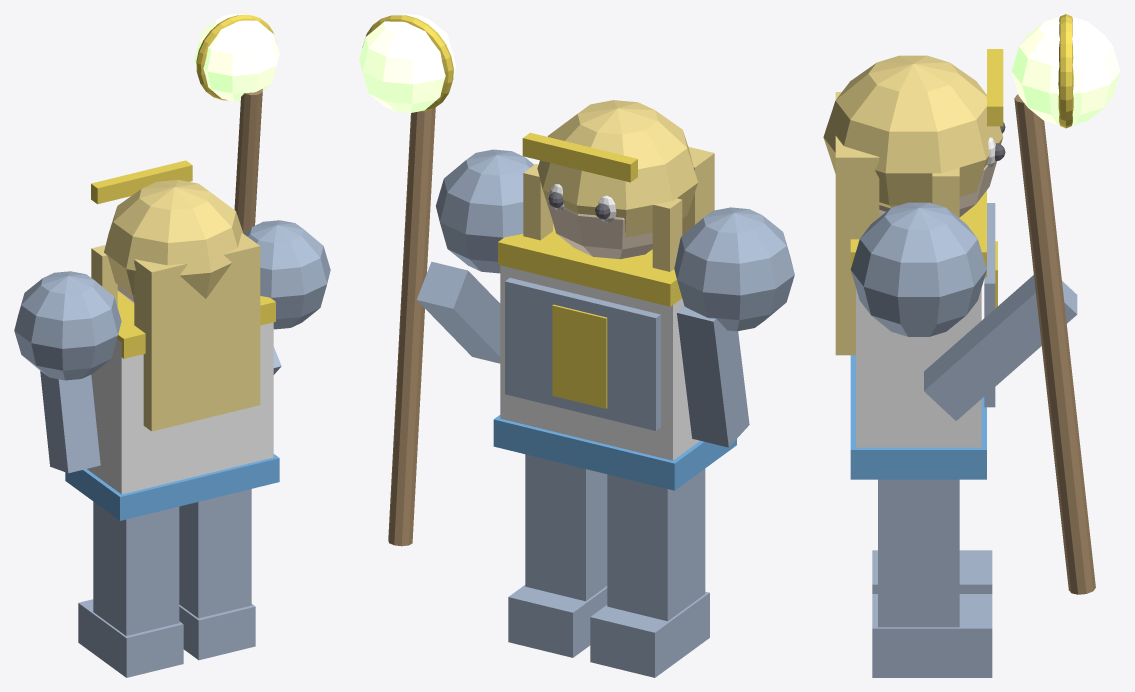
Rendered from battle_healer.glb.
3 views of the same model, side by side, from view 1: azimuth 30°, elevation 25°; view 2: azimuth 150°, elevation 25°; view 3: azimuth 270°, elevation 25° (orthographic). The views are drawn at different scales.
Parts seen in each view (by area): view 1: battle_healer; view 2: battle_healer; view 3: battle_healer.
Boxes of the visible parts, bbox=[...] form: battle_healer: bbox=[14, 14, 330, 677]; battle_healer: bbox=[359, 14, 794, 677]; battle_healer: bbox=[823, 14, 1120, 677].
Size of the model in its own units: 1.65 by 2.81 by 1.09.
